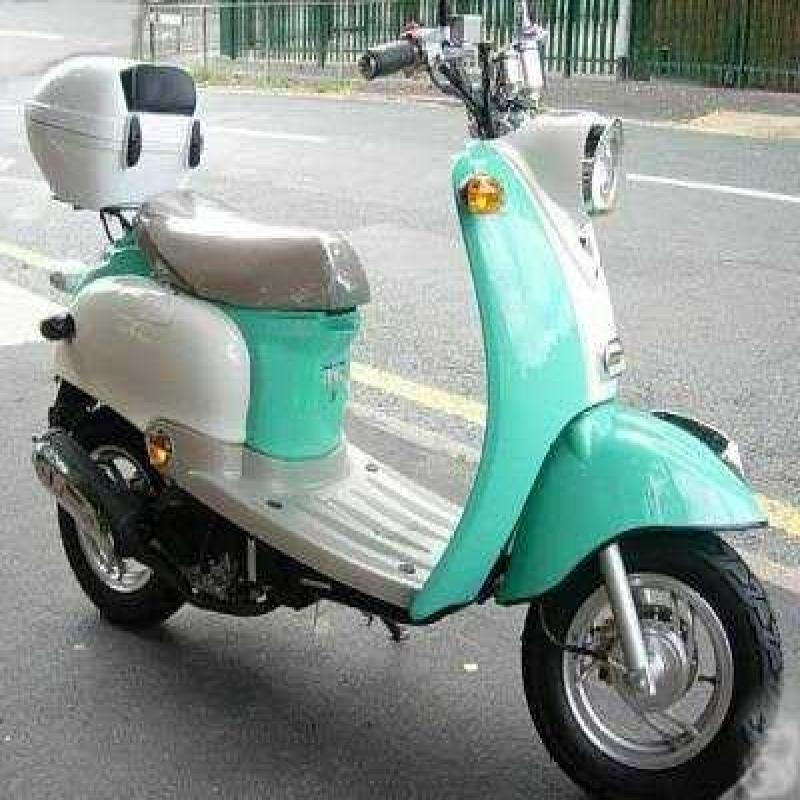bike: (46, 12, 800, 800)
